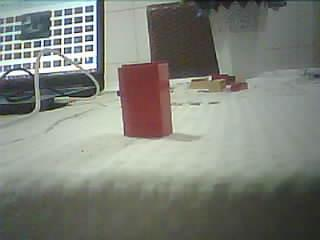lego: (116, 64, 175, 139), (211, 72, 235, 85), (206, 79, 226, 92), (189, 78, 208, 90), (229, 81, 248, 92)
